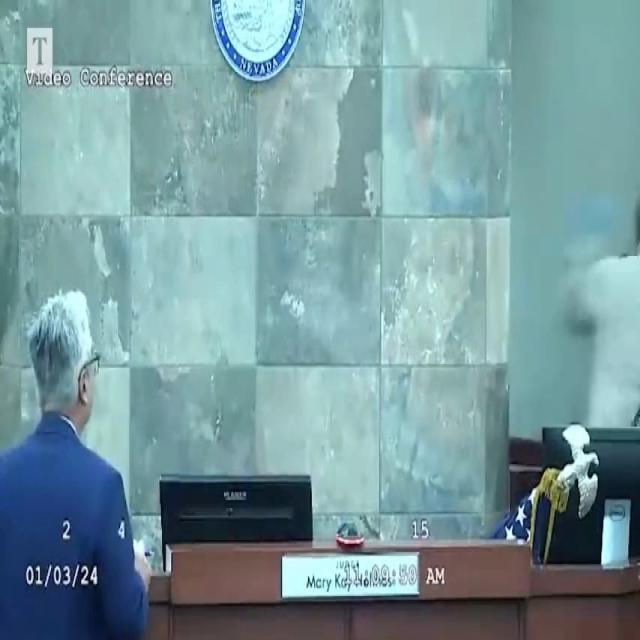non-fight: (2, 283, 150, 640)
